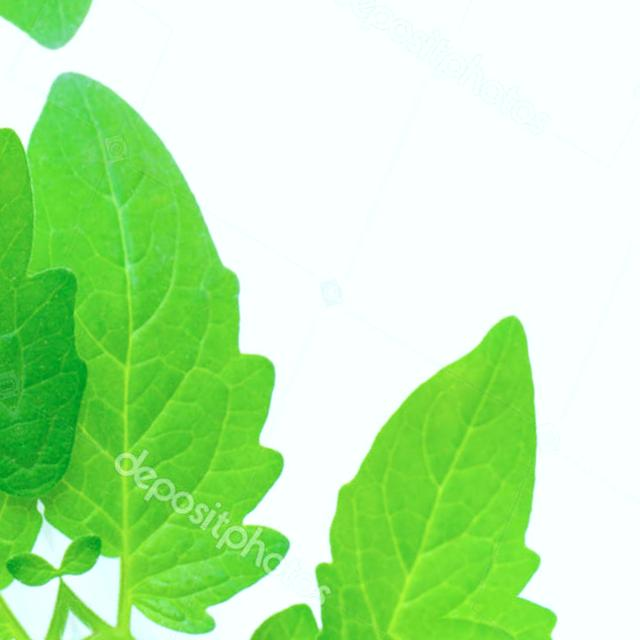Tomato leaf: (0, 30, 357, 640), (211, 274, 633, 640), (0, 74, 131, 525), (40, 491, 157, 640)
